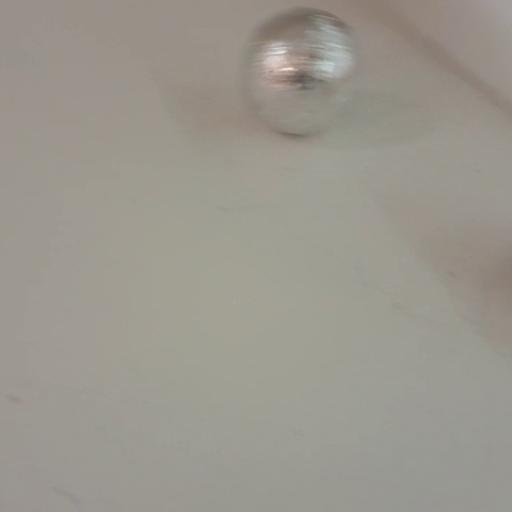alive: (240, 3, 362, 135)
